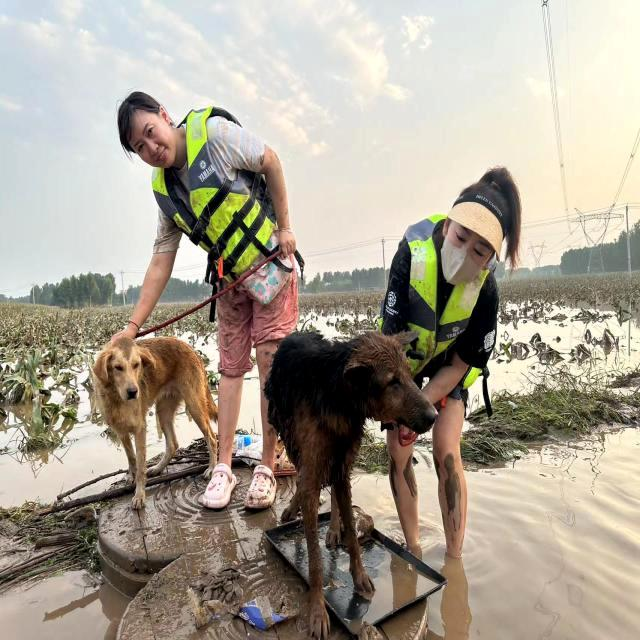civilian: (112, 89, 313, 523), (381, 151, 524, 585)
dog: (258, 322, 435, 638), (66, 315, 253, 514)
